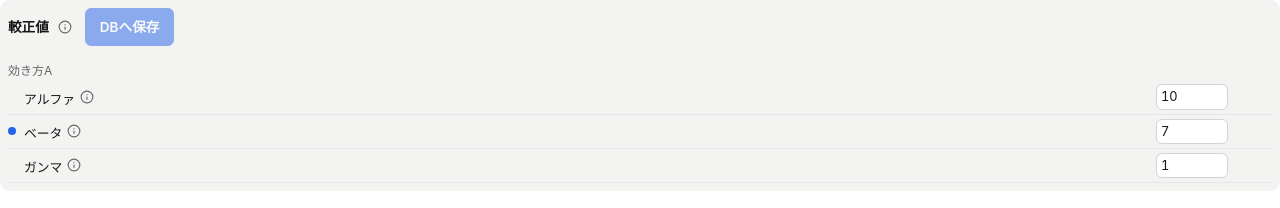
Test: TuningPanel › 保存すると、値を変えた行だけを行ごとに送り、既定と同じ値にした行は上書きを消す（null）。返った値で行を置き換える
Expected: the button "DBへ保存" is shown, [85,8,174,46]
Replace the text in the number field named "アルファ" with "12": (1192, 97) [1156,84,1228,110]
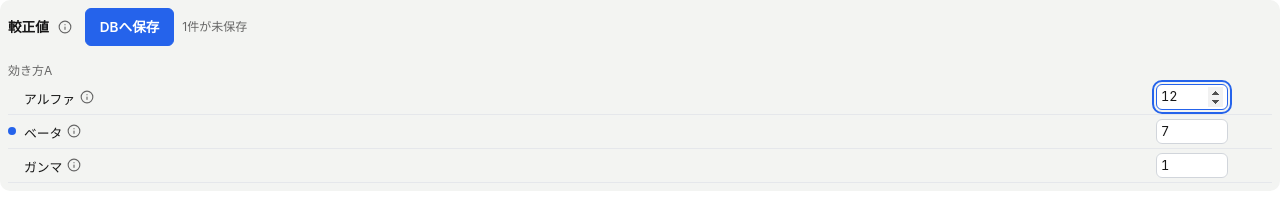
Replace the text in the number field named "ベータ" with "5": (1192, 131) [1156,119,1228,144]
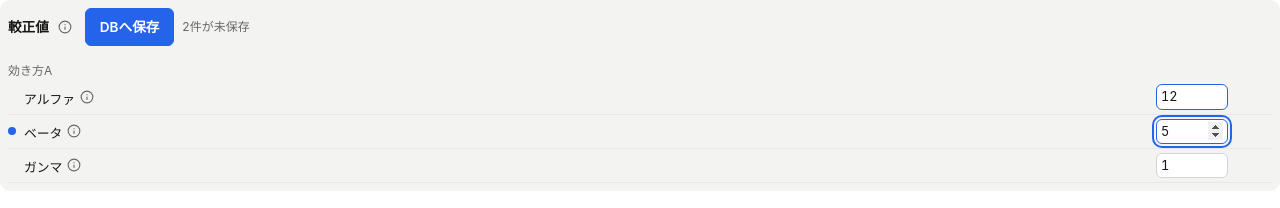
Click the button "DBへ保存": (130, 27) [85,8,174,46]
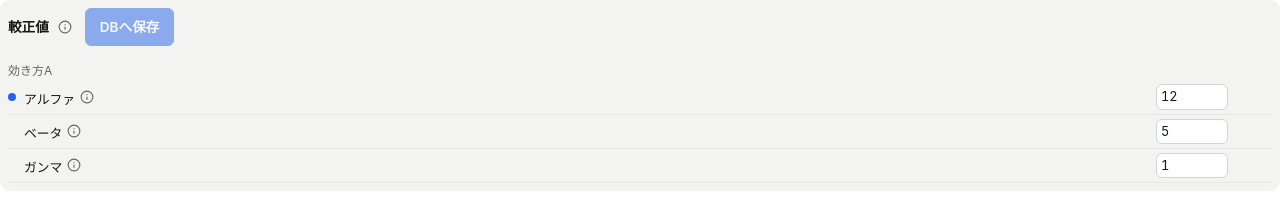
Now the text "件が未保存" is gone
Now the button "DBへ保存" is disabled, box [85,8,174,46]
